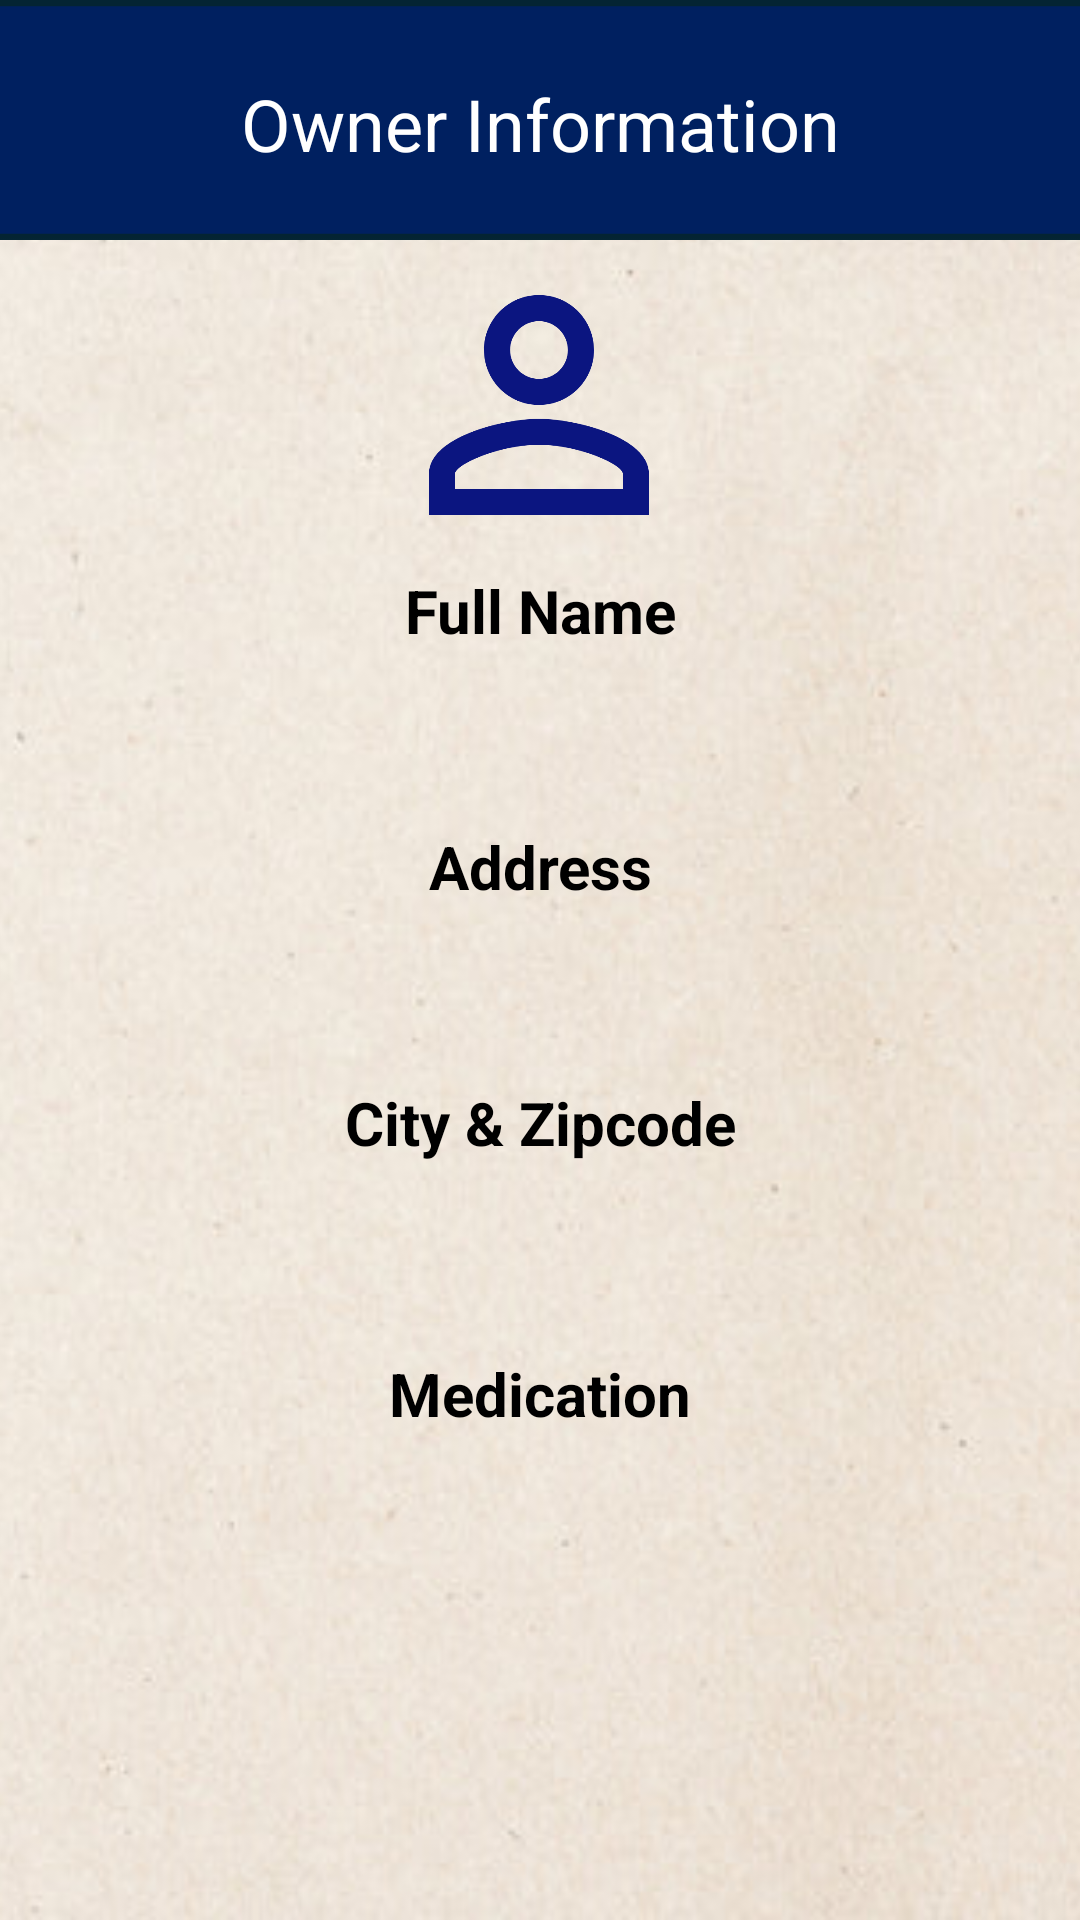

Locate icon controls on the screen. Image size 1080×1920, boxes as bbox=[x1, y1, x2, y2].
person: bbox=[367, 270, 649, 515]
